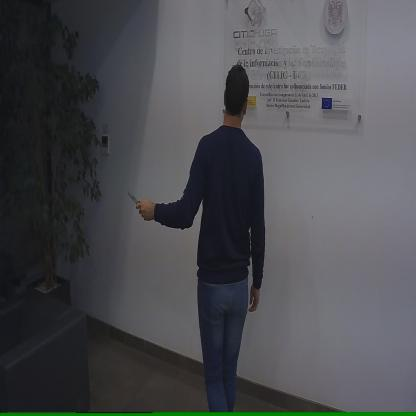knife: (124, 184, 146, 218)
